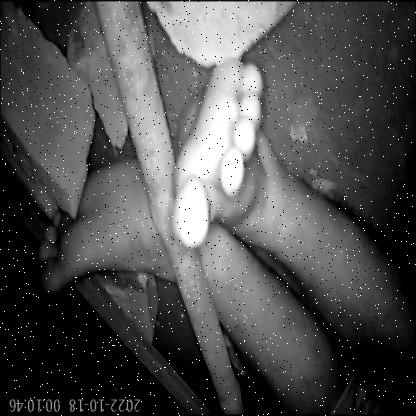leg: (145, 57, 402, 313), (28, 164, 282, 399)
